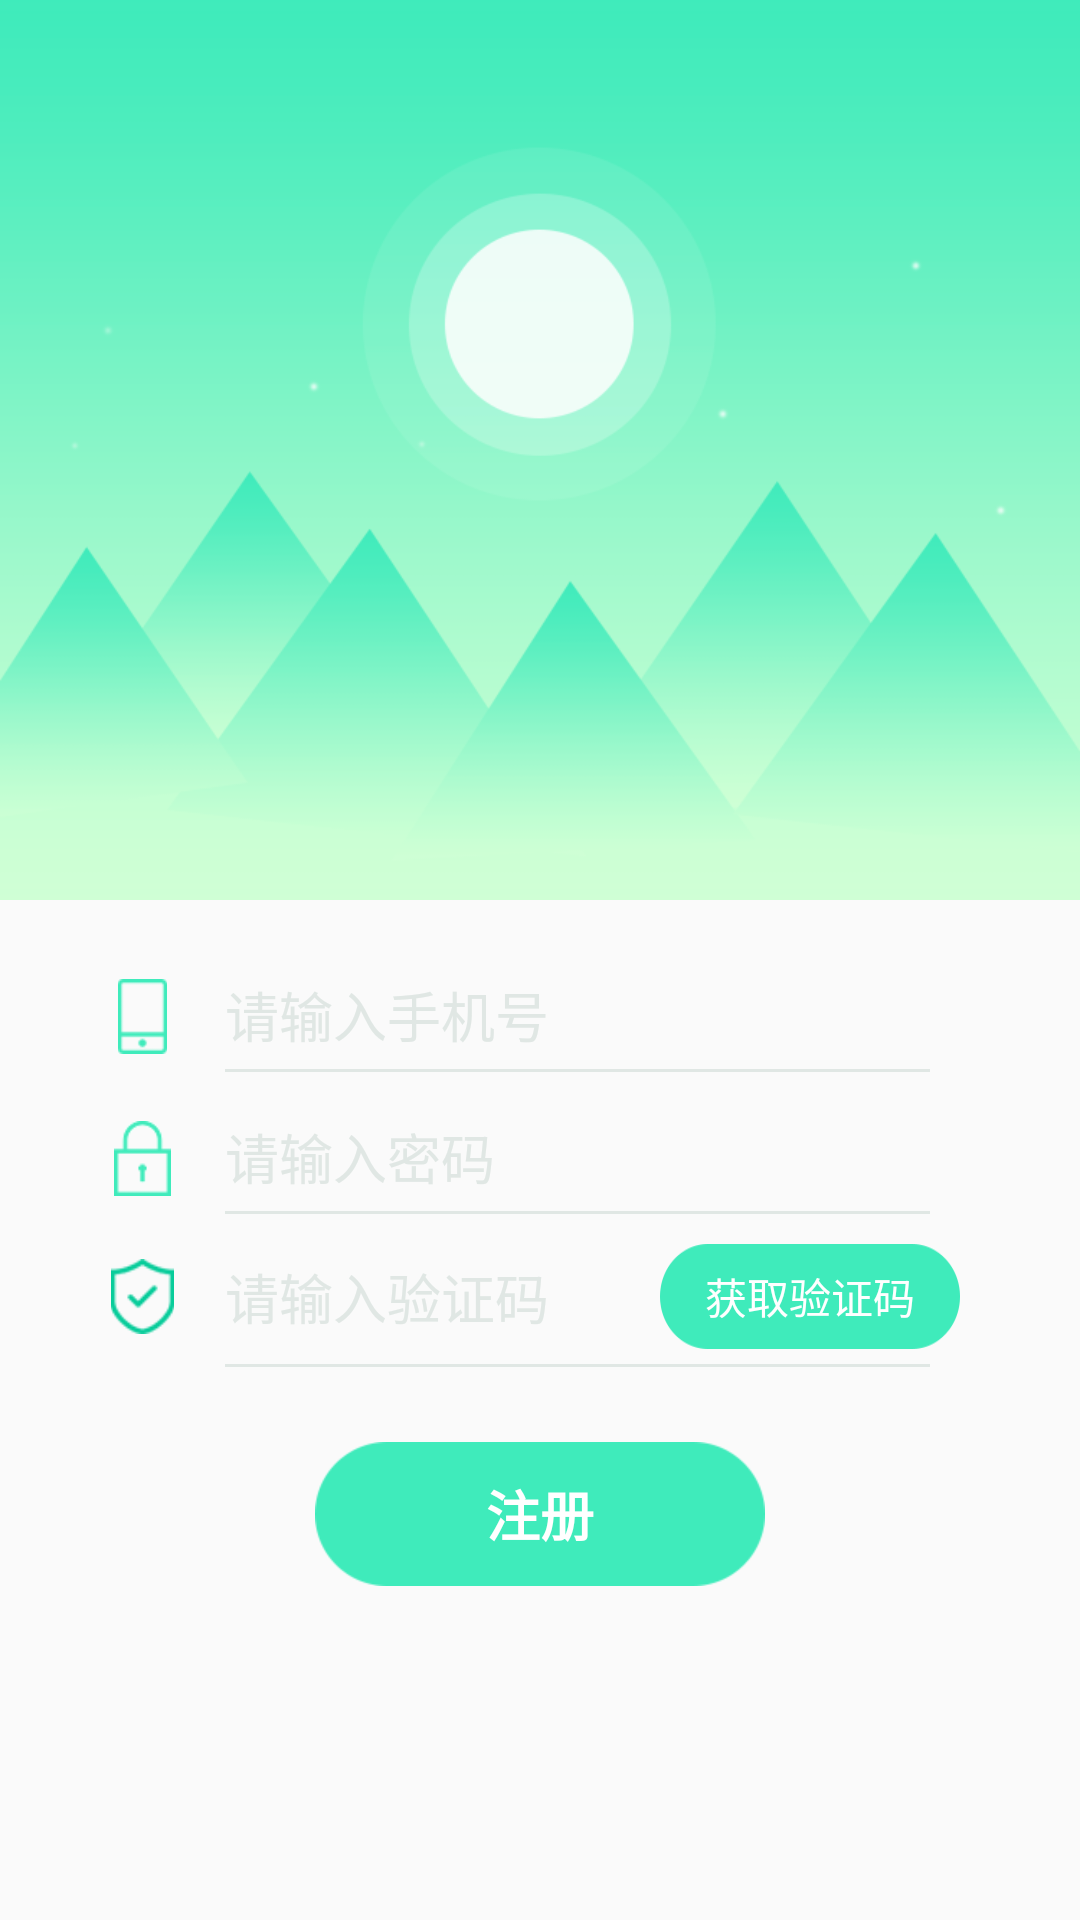

Icon bounding boxes for this 1080x1920 phone screenshot, format (x1, y1, x2, y2):
password: (114, 1121, 171, 1196)
phone: (118, 979, 167, 1054)
phone code: (111, 1259, 174, 1334)
